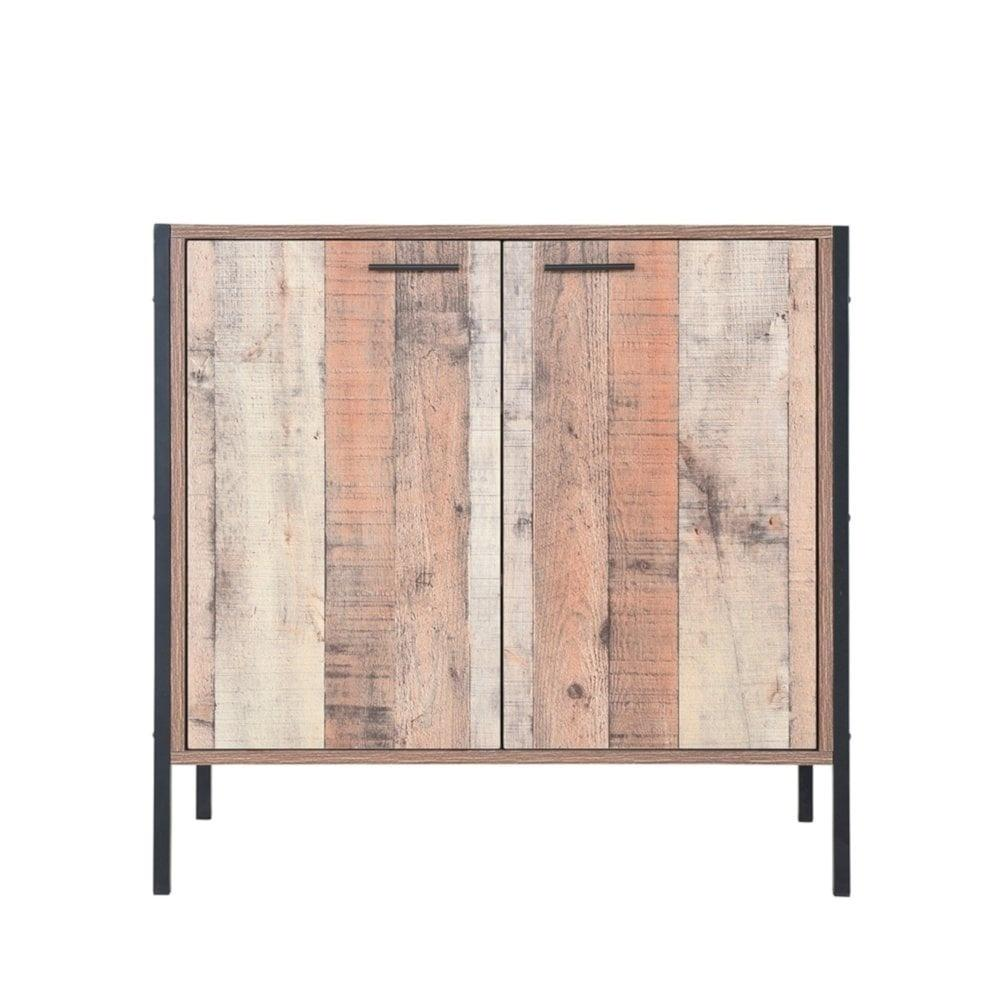cabinet_door: (185, 237, 499, 750), (502, 242, 814, 750)
handle: (366, 250, 469, 284), (540, 252, 642, 285)
